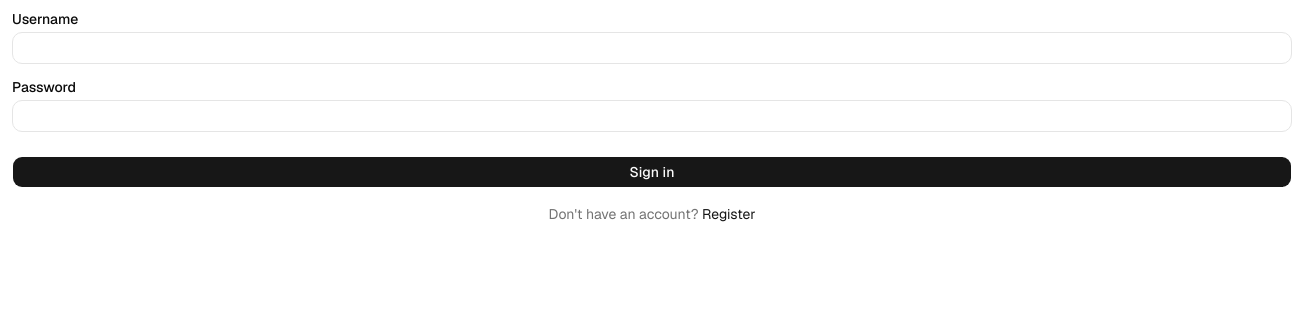
Test case: LoginForm › login failure › renders 503 service error detail
The image size is (1304, 315).
Type "testuser" into the field labelled "Username" at (652, 48), box [12,32,1292,64]
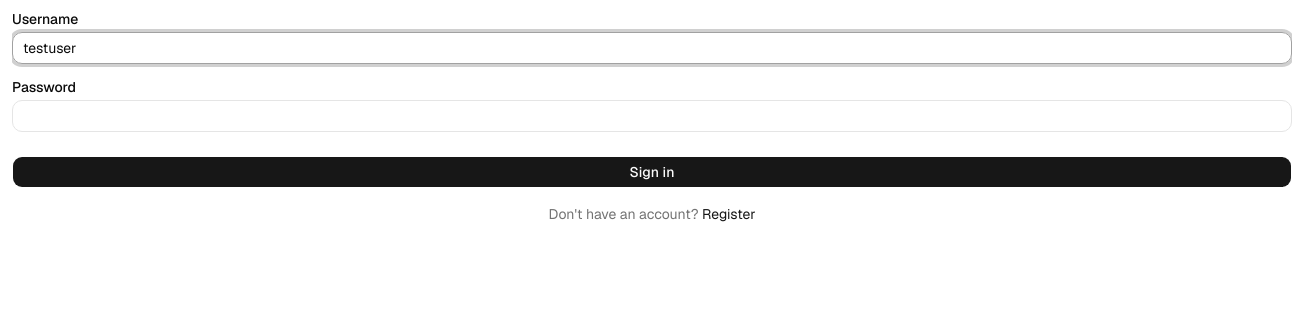
Type "password123" into the password field labelled "Password" at (652, 116), box [12,100,1292,132]
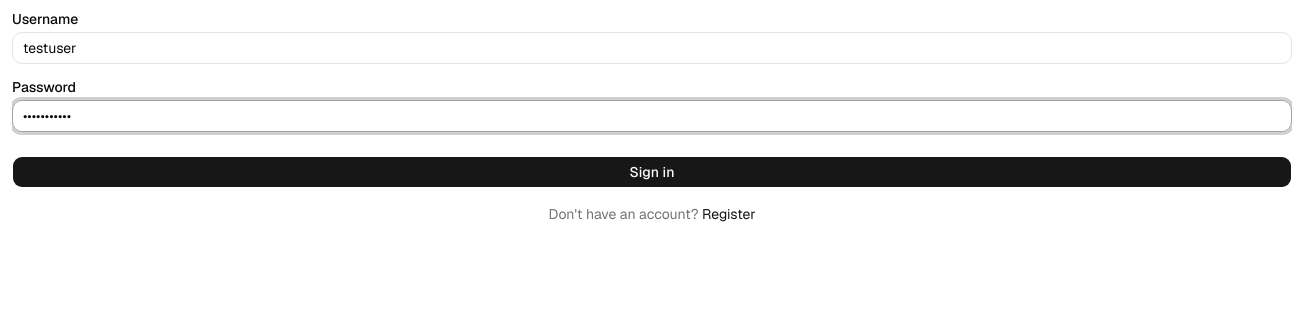
Click the button "Sign in" at (652, 172), box [12,156,1292,188]
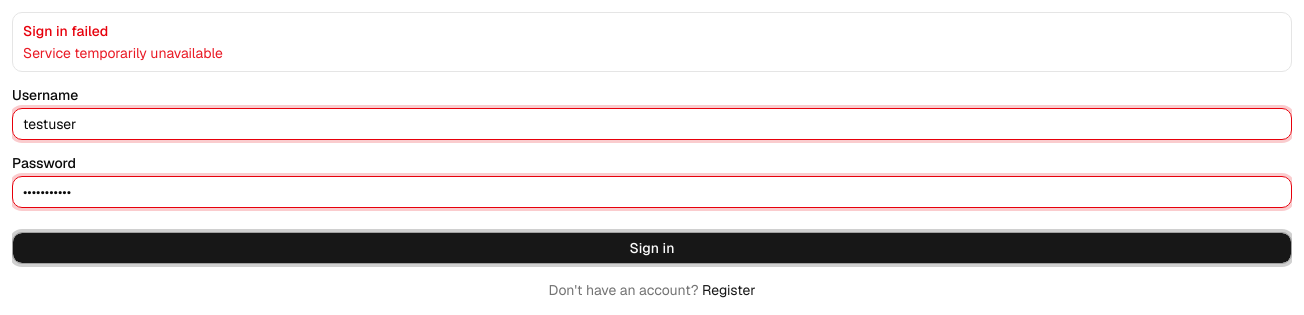
Expected: the text "Service temporarily unavailable" is shown, [23,44,223,62]
